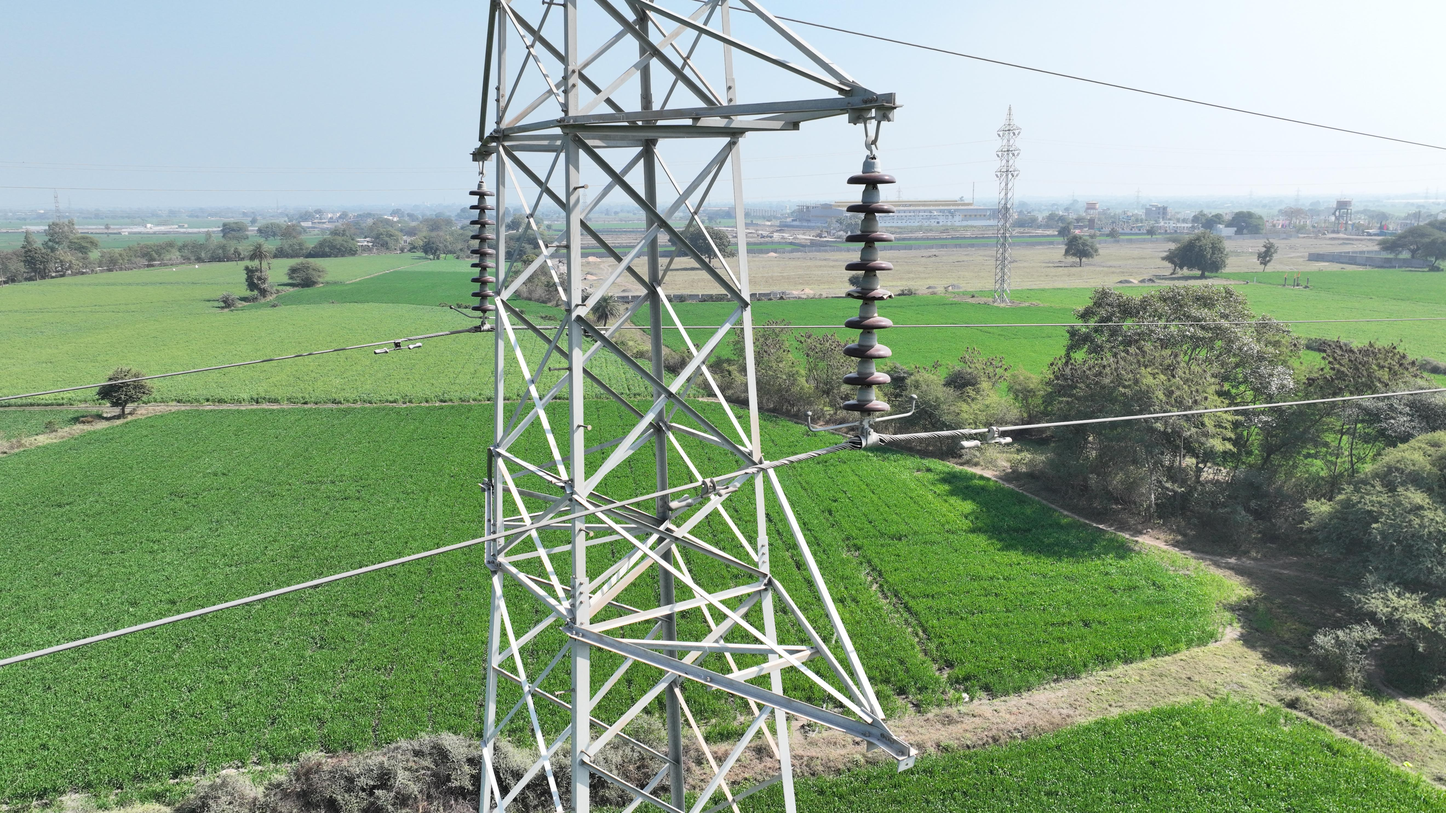broken_insulator: (844, 289, 895, 302)
